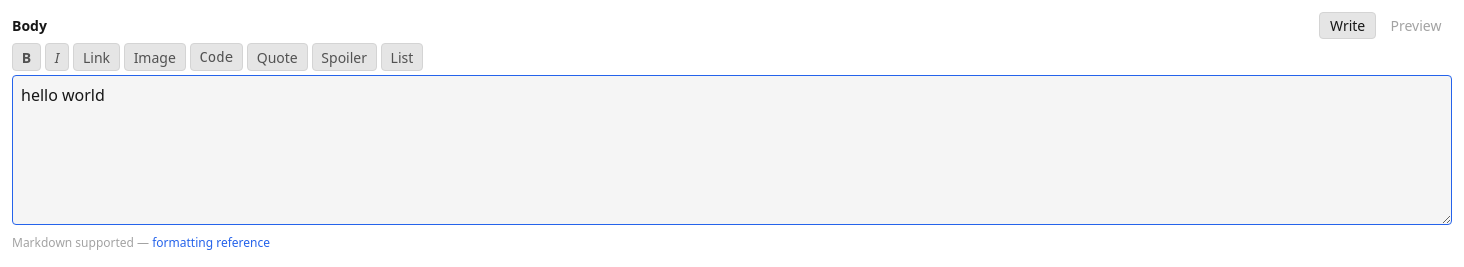
Scenario: MarkdownEditor › toolbar insertion › inserts at the cursor when nothing is selected
Click the button named "Italic".
click(57, 57)  # box [45, 43, 69, 71]
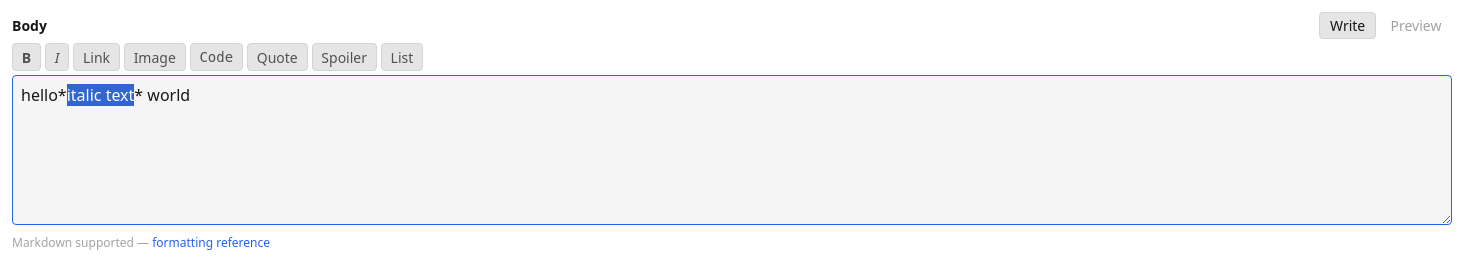
Expected: the text box labelled "Body" holds "hello*italic text* world", [12, 75, 1452, 225]
